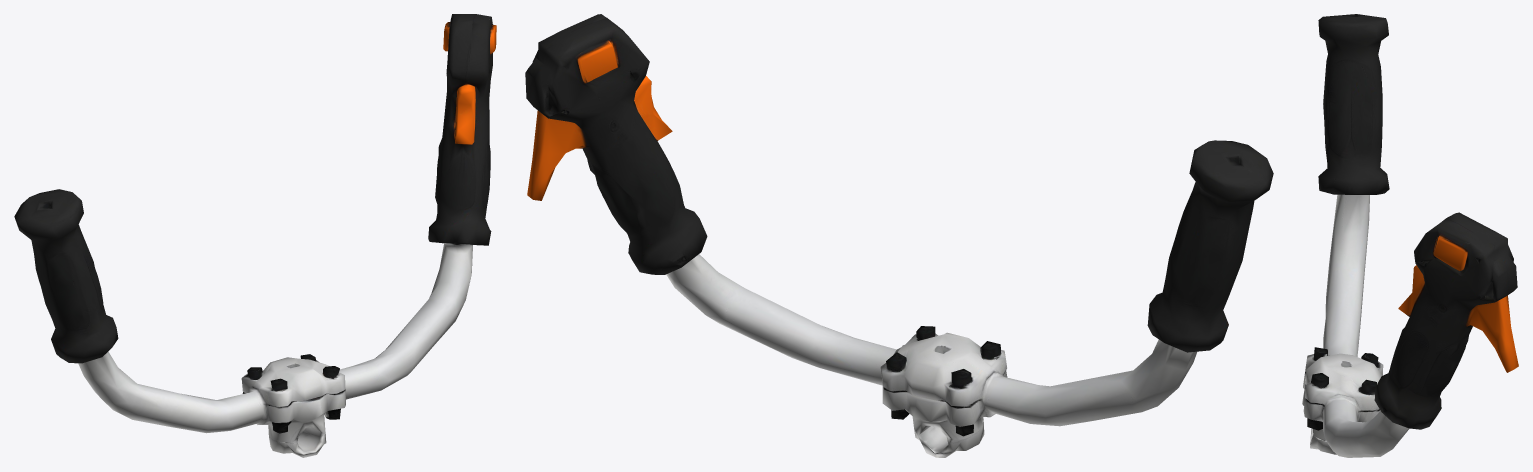
Rendered from tirpan_gidon.glb.
The picture shows the model from 3 angles, left to right: view 1: azimuth 30°, elevation 25°; view 2: azimuth 150°, elevation 25°; view 3: azimuth 270°, elevation 25°; orthographic projection. The views are drawn at different scales.
Visible parts, largest first — view 1: tripo_node_16e2af80-f156-4c09-b47c-ccf3f0a2bf65; view 2: tripo_node_16e2af80-f156-4c09-b47c-ccf3f0a2bf65; view 3: tripo_node_16e2af80-f156-4c09-b47c-ccf3f0a2bf65.
Boxes of the visible parts, x1=… form: tripo_node_16e2af80-f156-4c09-b47c-ccf3f0a2bf65: x1=14, y1=14, x2=496, y2=457; tripo_node_16e2af80-f156-4c09-b47c-ccf3f0a2bf65: x1=525, y1=14, x2=1273, y2=457; tripo_node_16e2af80-f156-4c09-b47c-ccf3f0a2bf65: x1=1302, y1=14, x2=1518, y2=457.
Bounding box in the file's own units: 0.9825 × 0.5863 × 0.3296.
Materials: 1 (1 with a texture image).
